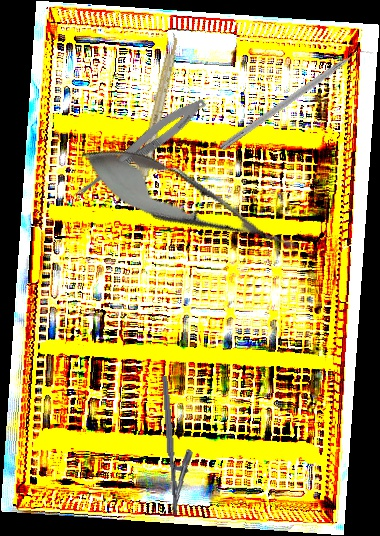Chopper: (219, 42, 376, 159)
Micro Scissor: (70, 130, 309, 274), (65, 91, 211, 211)
Needle Holder: (161, 374, 197, 516)
Scalpel Handle: (131, 31, 182, 202)
